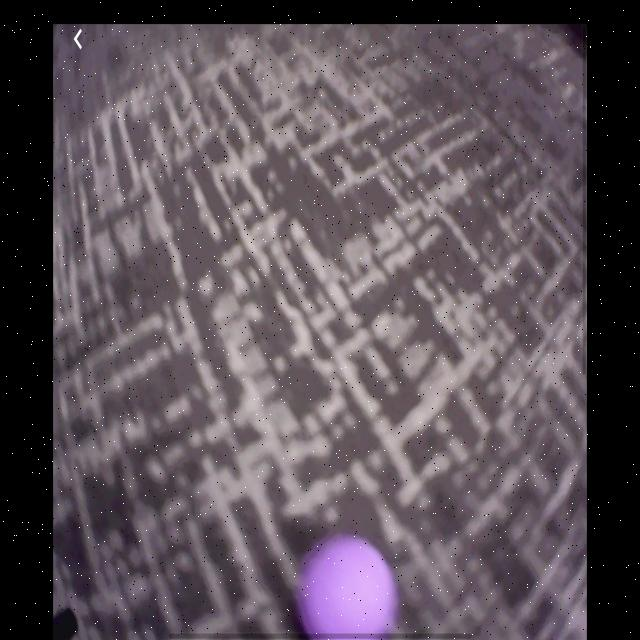ball: (294, 532, 400, 639)
